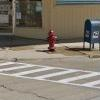Crosswalk: (6, 56, 99, 94)
